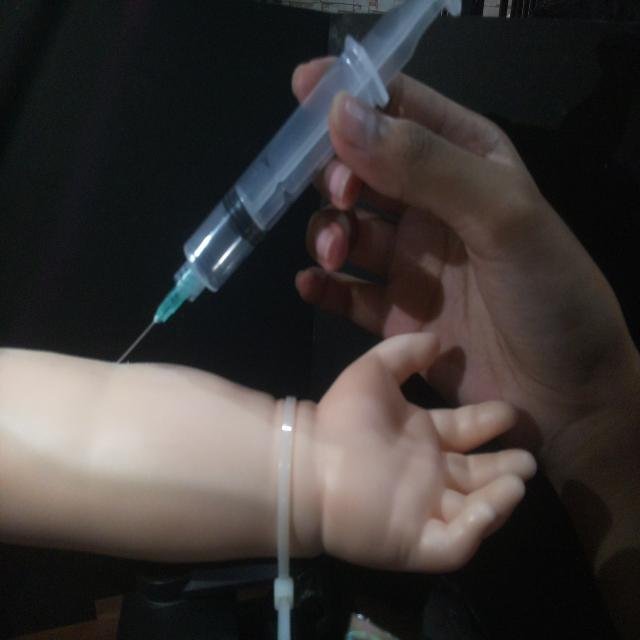30deg: (111, 1, 461, 366)
